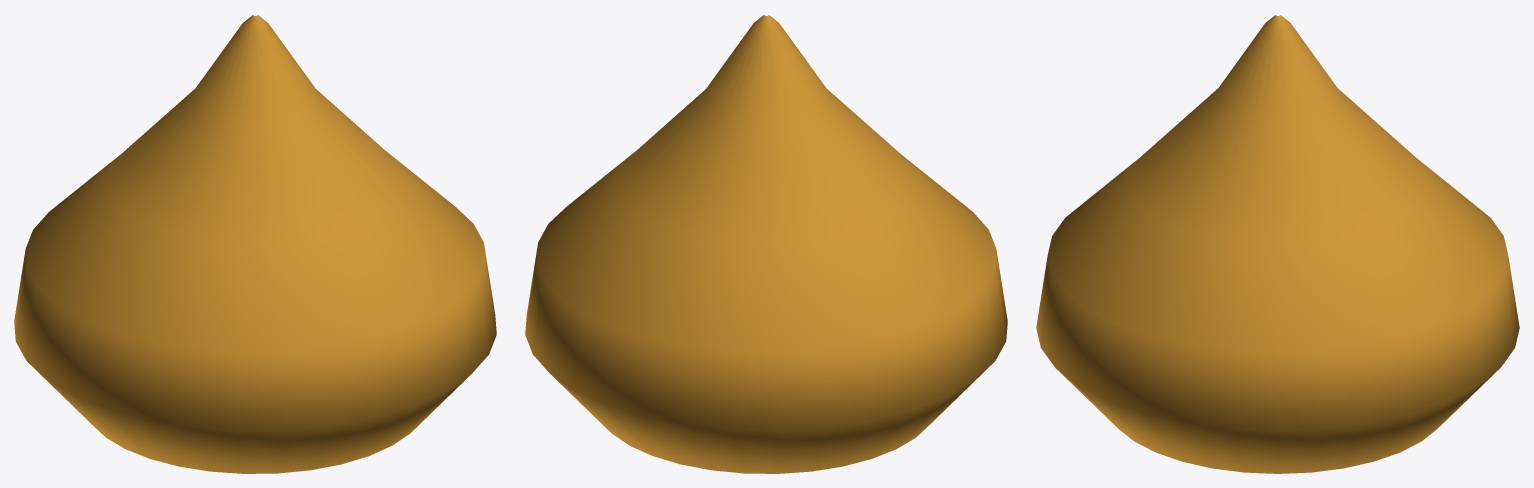
Rendered from modak.glb.
3 renders of one model, left to right at view 1: azimuth 30°, elevation 25°; view 2: azimuth 150°, elevation 25°; view 3: azimuth 270°, elevation 25°, orthographic.
Parts seen in each view (by area): view 1: sweet; view 2: sweet; view 3: sweet.
Part boxes in pixels (x1=…): sweet: x1=14, y1=15, x2=496, y2=473; sweet: x1=525, y1=15, x2=1007, y2=473; sweet: x1=1036, y1=15, x2=1519, y2=473.
Size of the model in its own units: 0.21 by 0.19 by 0.21.
